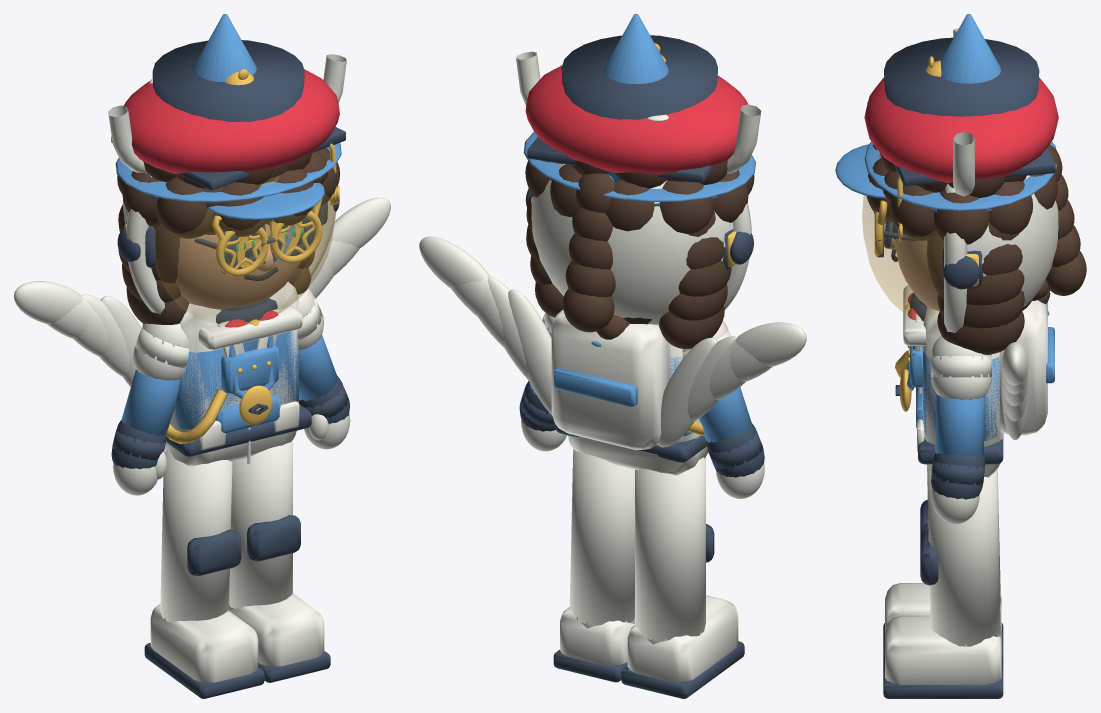
Rendered from wardrobe.glb.
3 renders of one model, left to right at view 1: azimuth 30°, elevation 25°; view 2: azimuth 150°, elevation 25°; view 3: azimuth 270°, elevation 25°, orthographic. The views are drawn at different scales.
Parts seen in each view (by area): view 1: Golden visor, Mushroom cap, Pressurized leg, Top hat, Pressurized leg.001, Moon boot, Torso.002, Moon boot.001, Torso, Head.002, Sleeve.002, Helmet window rim (+46 smaller); view 2: Mushroom cap, Pressurized leg, Life support backpack, Pressurized leg.001, Helmet shell, Top hat, Moon boot, Moon boot.001, Wing feather.005, Wizard cone, Wing feather, Torso.002 (+38 smaller); view 3: Mushroom cap, Pressurized leg.001, Top hat, Moon boot.001, Golden visor, Helmet shell, Life support backpack, Sleeve.003, Wizard cone, Torso.002, Wizard brim, Wave.009 (+37 smaller).
Boxes of the visible parts, bbox=[...] form: Golden visor: bbox=[153, 176, 334, 324]; Mushroom cap: bbox=[124, 69, 339, 174]; Pressurized leg: bbox=[160, 450, 232, 621]; Top hat: bbox=[152, 40, 304, 121]; Pressurized leg.001: bbox=[229, 440, 292, 608]; Moon boot: bbox=[150, 604, 258, 682]; Torso.002: bbox=[164, 281, 298, 466]; Moon boot.001: bbox=[229, 593, 324, 666]; Torso: bbox=[173, 331, 298, 429]; Head.002: bbox=[175, 223, 301, 309]; Sleeve.002: bbox=[121, 369, 179, 436]; Helmet window rim: bbox=[126, 172, 336, 314]; Mushroom cap: bbox=[525, 65, 747, 174]; Pressurized leg: bbox=[635, 457, 705, 641]; Life support backpack: bbox=[551, 309, 670, 449]; Pressurized leg.001: bbox=[569, 449, 634, 625]; Helmet shell: bbox=[531, 163, 733, 324]; Top hat: bbox=[561, 35, 717, 119]; Moon boot: bbox=[627, 595, 738, 682]; Moon boot.001: bbox=[560, 607, 634, 665]; Wing feather.005: bbox=[508, 289, 552, 415]; Wizard cone: bbox=[603, 14, 668, 182]; Wing feather: bbox=[657, 337, 717, 447]; Torso.002: bbox=[567, 344, 708, 475]; Mushroom cap: bbox=[864, 77, 1058, 182]; Pressurized leg.001: bbox=[927, 467, 1000, 646]; Top hat: bbox=[884, 37, 1039, 116]; Moon boot.001: bbox=[885, 615, 1001, 684]; Golden visor: bbox=[862, 152, 943, 321]; Helmet shell: bbox=[967, 175, 1058, 307]; Life support backpack: bbox=[999, 300, 1047, 435]; Sleeve.003: bbox=[935, 394, 984, 455]; Wizard cone: bbox=[940, 14, 1000, 83]; Torso.002: bbox=[923, 307, 1002, 477]; Wizard brim: bbox=[864, 141, 1057, 210]; Wave.009: bbox=[937, 310, 1024, 354].
Size of the model in its own units: 1.82 by 2.97 by 1.03.
